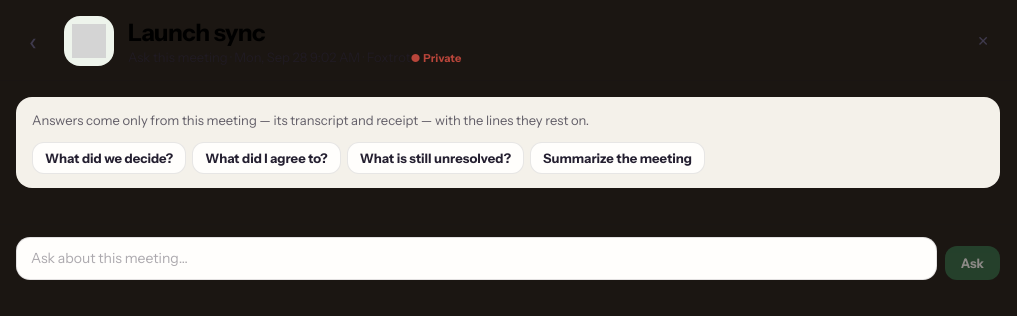
MeetingTwin › keeps the meeting's identity in the header and offers suggestions that take the same path
Expected: the heading with test id "twin-title" reads "Launch sync", [128,18,265,46]
Expected: the element with test id "twin-subtitle" shows "Foxtrot", [360,48,411,64]
Click the button with test id "twin-suggestion" showing "What did we decide?".
click(109, 158)  # box [32,142,186,174]
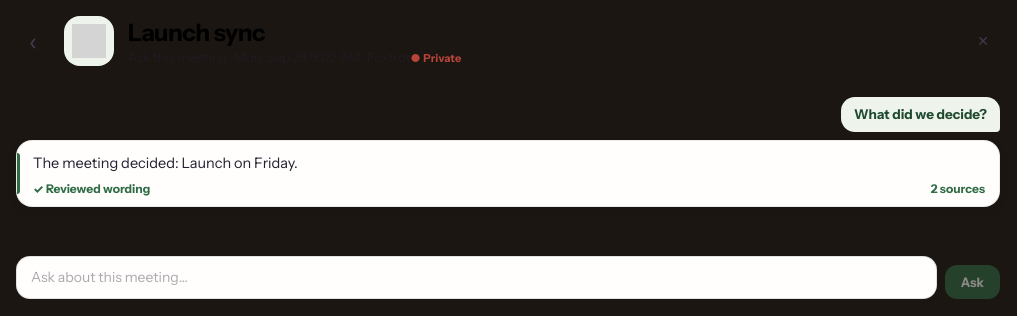
Expected: the element with test id "twin-answer" is shown, [16,140,1000,207]
Expected: the element with test id "twin-intro" is gone
